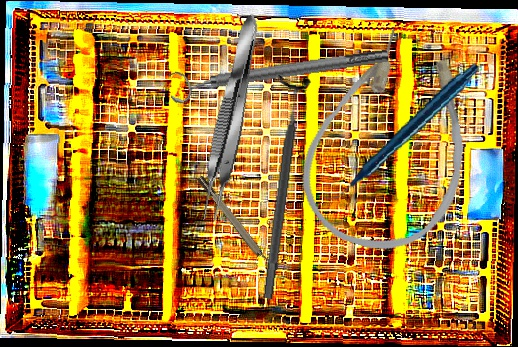Cannula: (284, 14, 500, 270)
Fixation Ring: (167, 39, 391, 106), (250, 75, 313, 301), (195, 171, 281, 277)
Handpiece: (309, 61, 494, 203)
Tissue Forceps: (194, 11, 268, 225)
